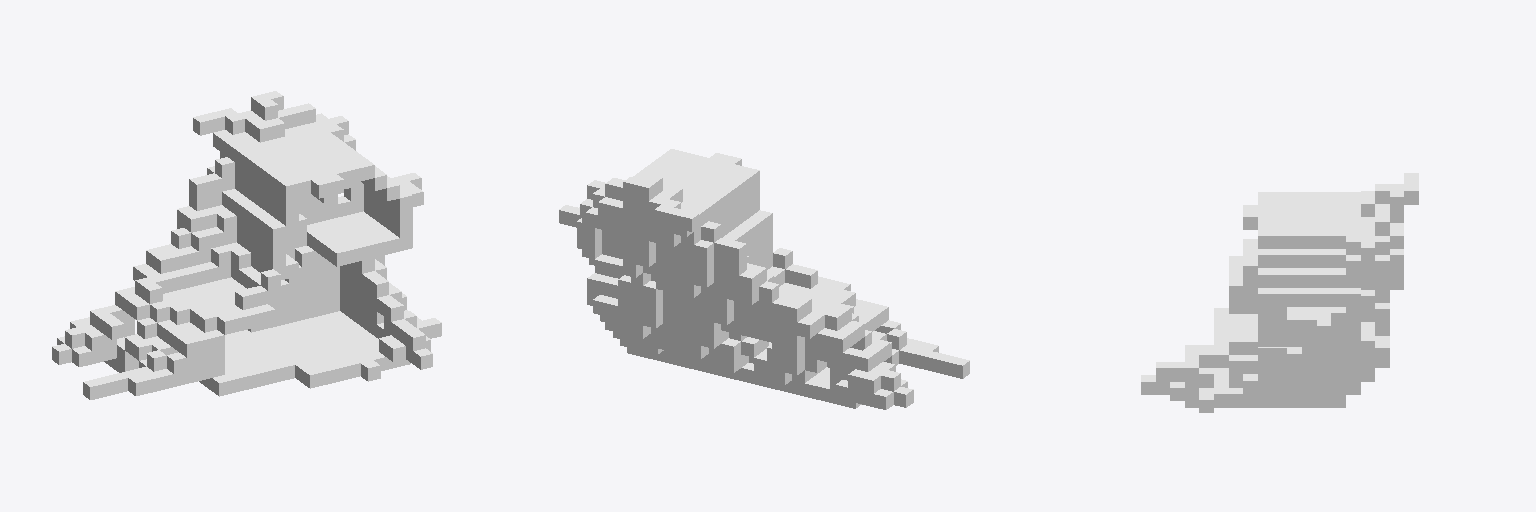
File: HomeInterior.obj
The picture shows the model from 3 angles: view 1: azimuth 30°, elevation 25°; view 2: azimuth 150°, elevation 25°; view 3: azimuth 270°, elevation 25°; orthographic projection.
Size of the model in its own units: 29 by 15 by 19.